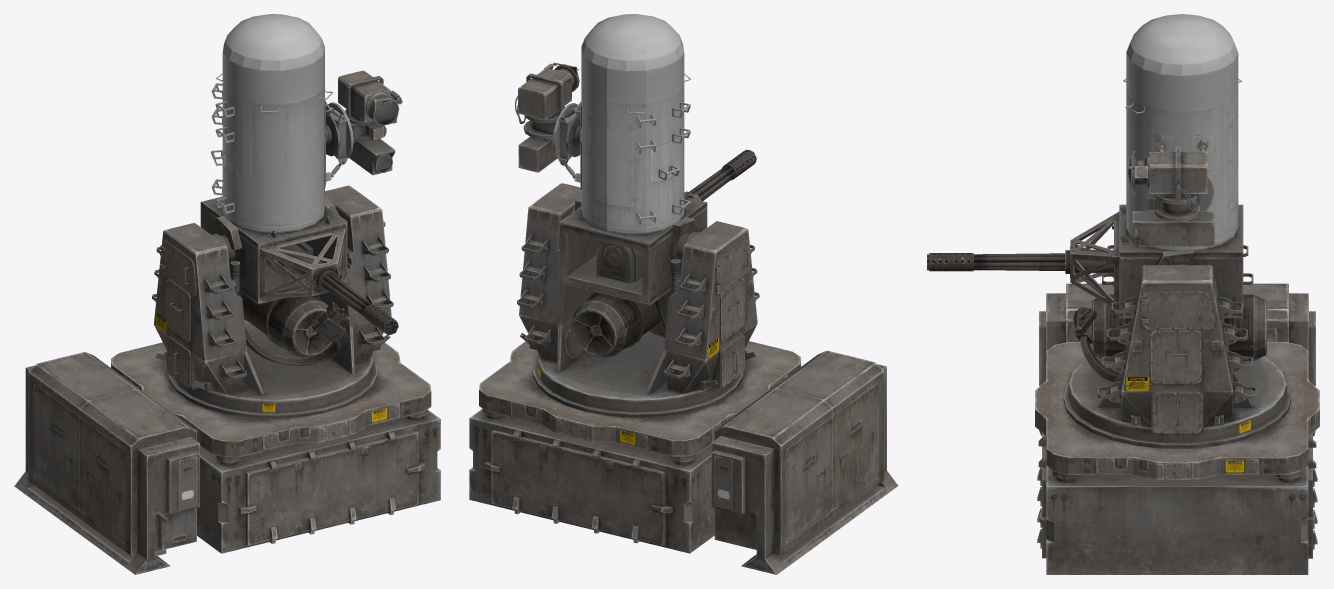
The picture shows the model from 3 angles, left to right: view 1: azimuth 30°, elevation 25°; view 2: azimuth 150°, elevation 25°; view 3: azimuth 270°, elevation 25°; orthographic projection. The views are drawn at different scales.
Parts seen in each view (by area): view 1: Object_4, Object_3, Object_2, Object_5; view 2: Object_4, Object_3, Object_2, Object_5; view 3: Object_4, Object_3, Object_2, Object_5.
Boxes of the visible parts, x1,y1,x2,y2 form: Object_4: (14,185,440,574); Object_3: (211,14,398,357); Object_2: (156,70,402,365); Object_5: (89,220,393,438); Object_4: (469,183,898,574); Object_3: (552,14,756,357); Object_2: (515,62,707,337); Object_5: (517,234,874,400); Object_4: (1035,224,1319,574); Object_3: (927,14,1266,360); Object_2: (1070,147,1248,382); Object_5: (1066,226,1286,432).
Size of the model in its own units: 178 by 246 by 176.
1 material, 1 textured.
